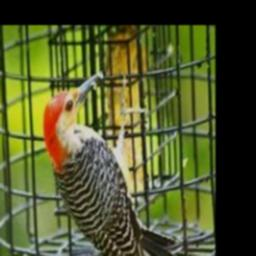Woodpecker: (43, 70, 179, 256)
